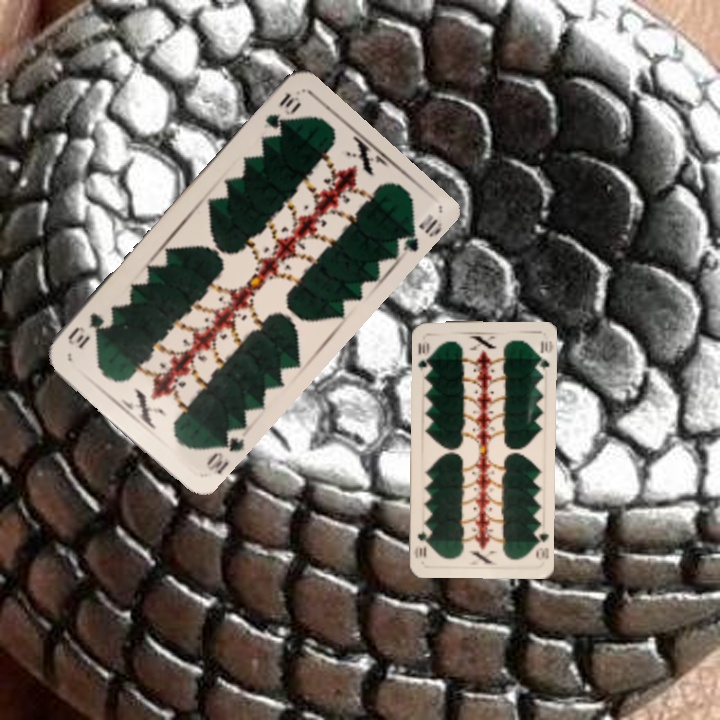G10: (202, 424, 247, 477), (261, 89, 304, 131), (531, 524, 551, 562), (414, 339, 433, 374)
